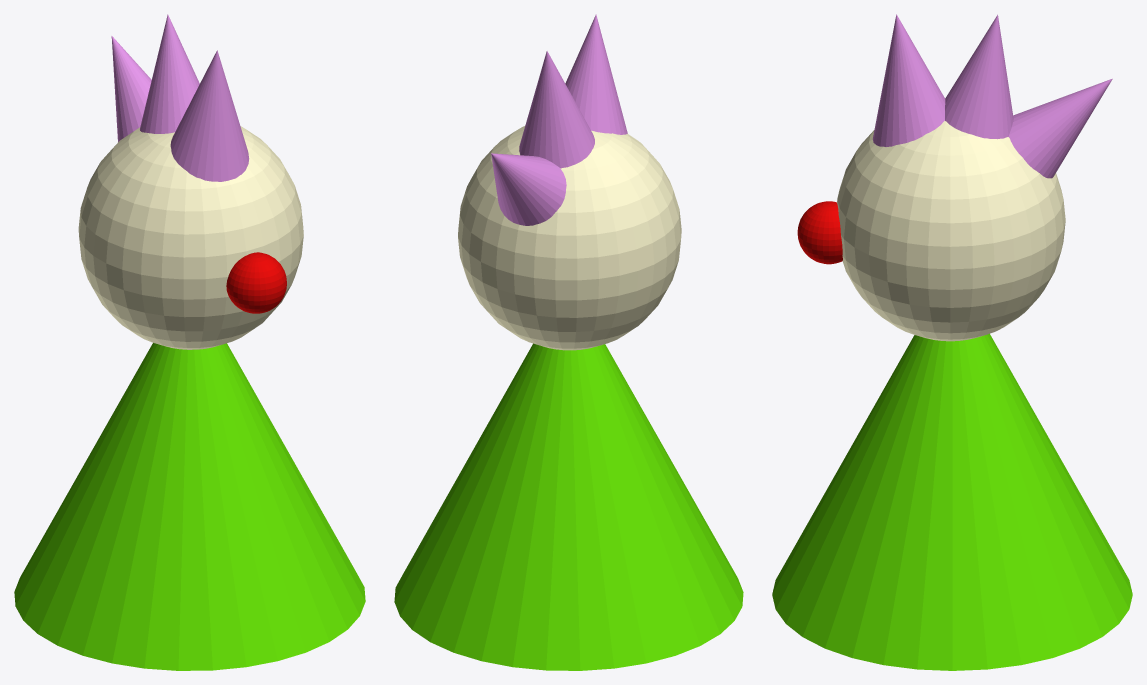
Rendered from clown.fbx.
3 views of the same model, side by side, from view 1: azimuth 30°, elevation 25°; view 2: azimuth 150°, elevation 25°; view 3: azimuth 270°, elevation 25° (orthographic). The views are drawn at different scales.
Parts seen in each view (by area): view 1: Cone; view 2: Cone; view 3: Cone.
Boxes of the visible parts, <box> form: Cone: <box>14,14,365,670</box>; Cone: <box>394,14,743,670</box>; Cone: <box>772,14,1132,670</box>.
Bounding box in the file's own units: 80 × 142 × 80.
